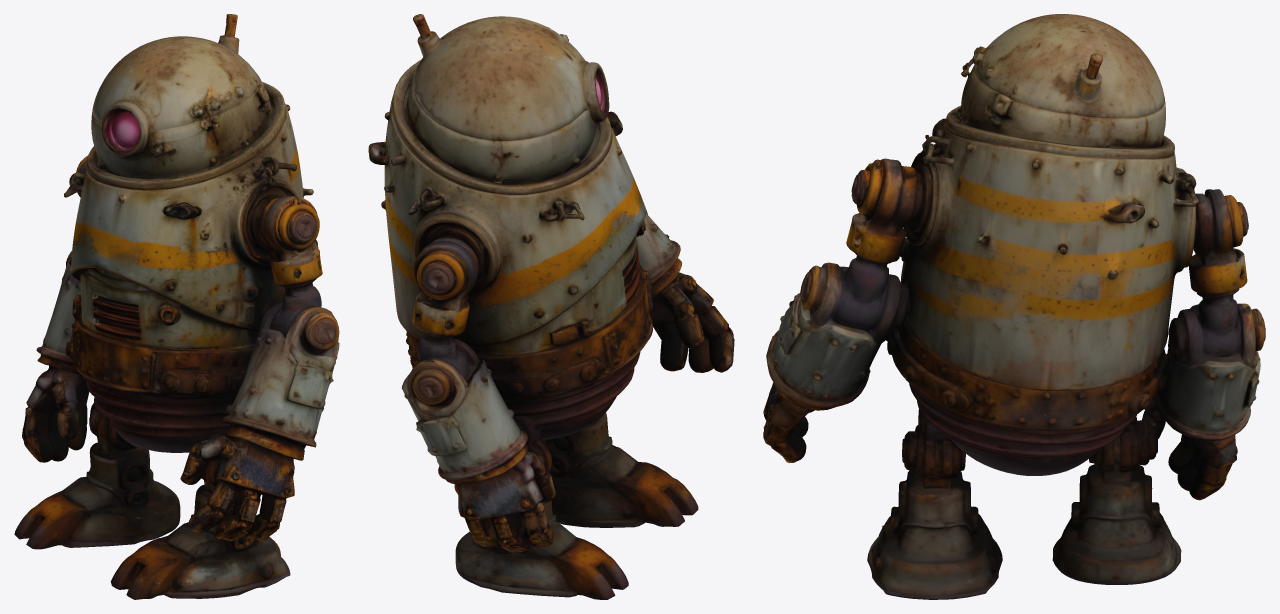
Rendered from pixellabs-robot-3332-compressed.glb.
3 views of the same model, side by side, from view 1: azimuth 30°, elevation 25°; view 2: azimuth 150°, elevation 25°; view 3: azimuth 270°, elevation 25° (orthographic). The views are drawn at different scales.
Visible parts, largest first — view 1: material; view 2: material; view 3: material.
Part boxes in pixels (x1,y1,x2,y2): material: (14,14,339,599); material: (368,14,734,599); material: (763,14,1265,599).
Bounding box in the file's own units: 0.5236 × 0.9965 × 0.8092.
1 material, 1 textured.
